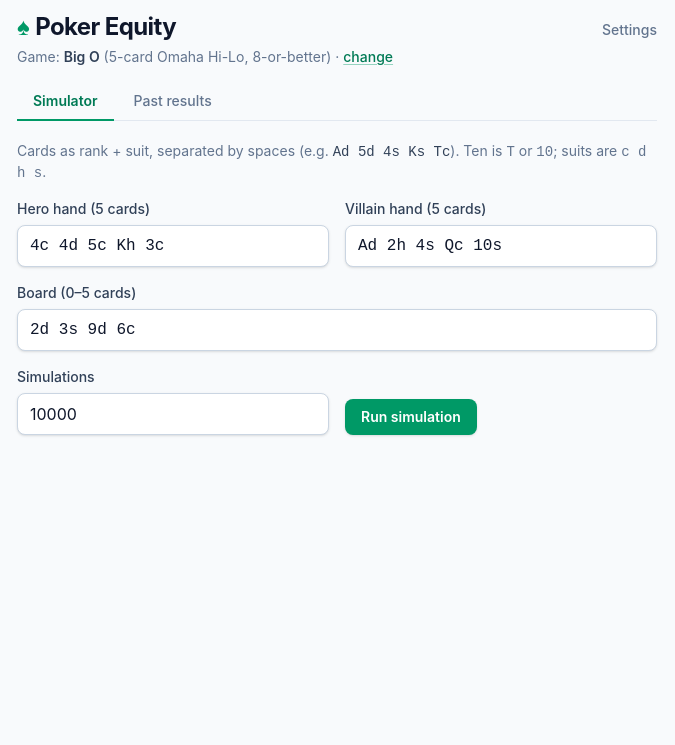
Scenario: a locked full board shows 100% hero equity
The image size is (675, 745).
Replace the text in the field labelled "Hero hand (5 cards)" with "As Ts 3h 4h 5h": (173, 246) x1=17 y1=225 x2=329 y2=267
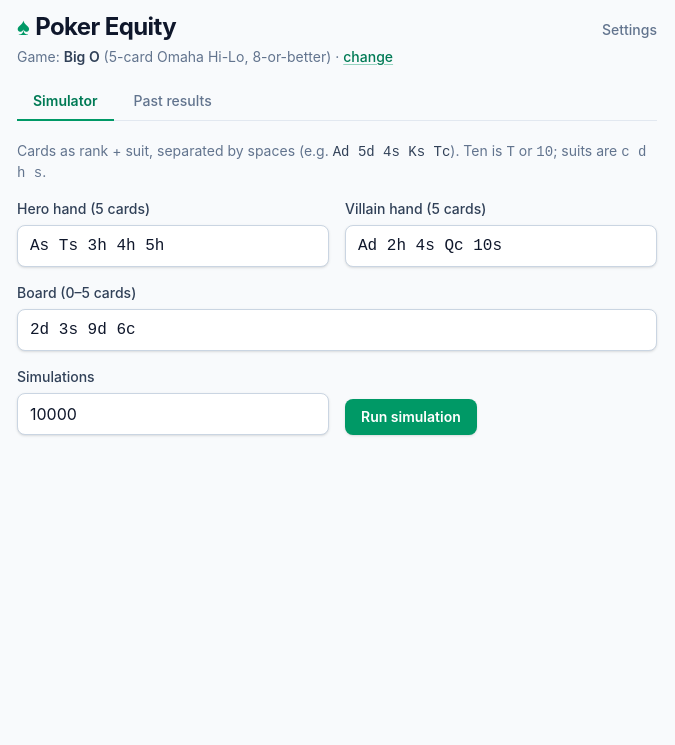
Replace the text in the field labelled "Villain hand (5 cards)" with "Ah Ad 9c 9d 8h": (501, 246) x1=345 y1=225 x2=657 y2=267
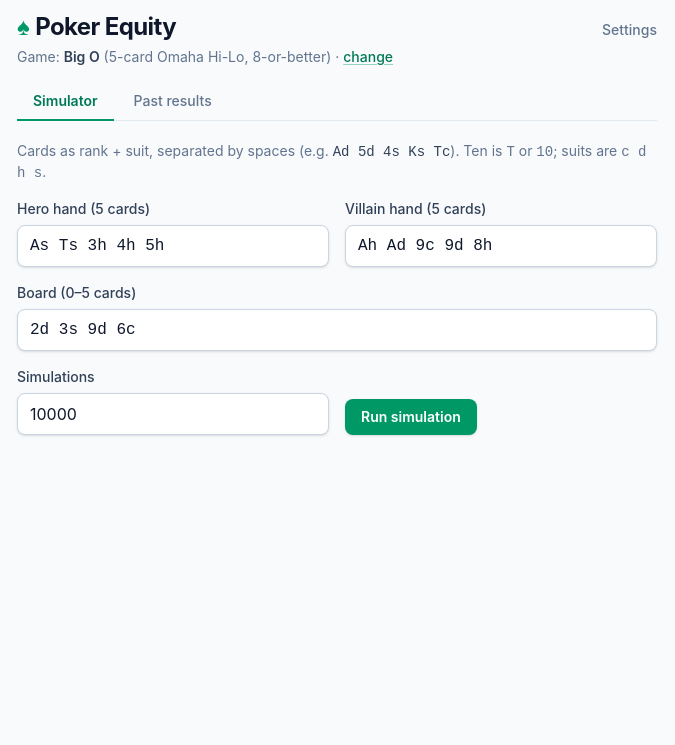
Replace the text in the field labelled "Board (0–5 cards)" with "Ks Qs Js 2d 7c": (337, 330) x1=17 y1=309 x2=657 y2=351
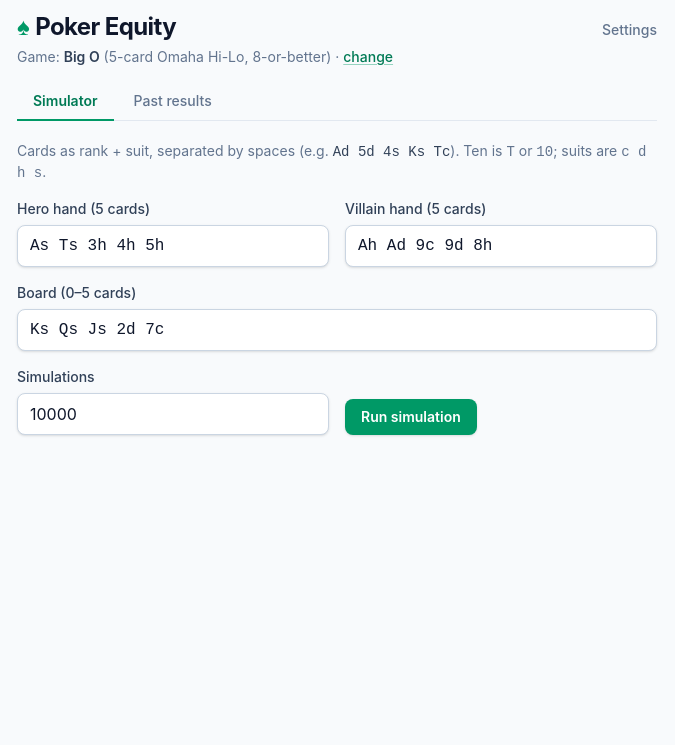
Replace the text in the number field labelled "Simulations" with "50": (173, 414) x1=17 y1=393 x2=329 y2=435
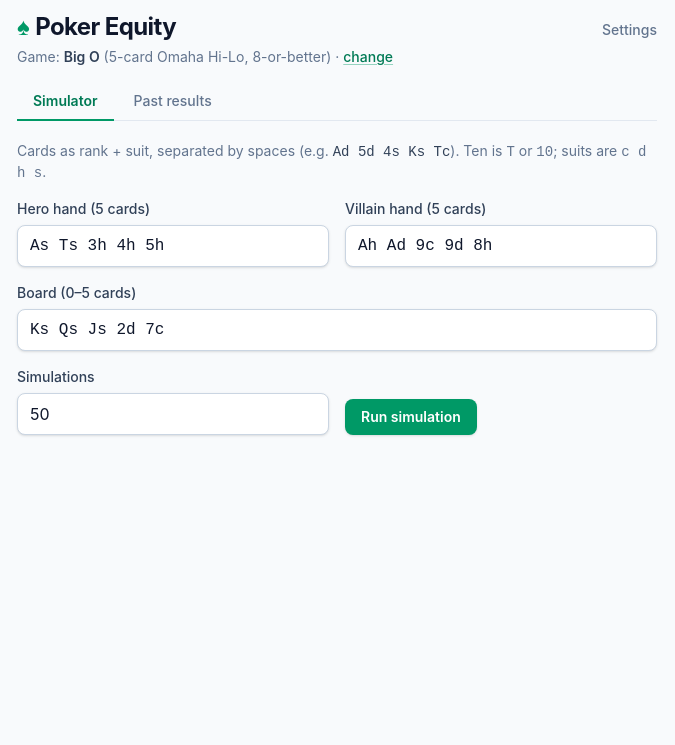
Click the button "Run simulation": click(411, 417) x1=345 y1=399 x2=477 y2=435
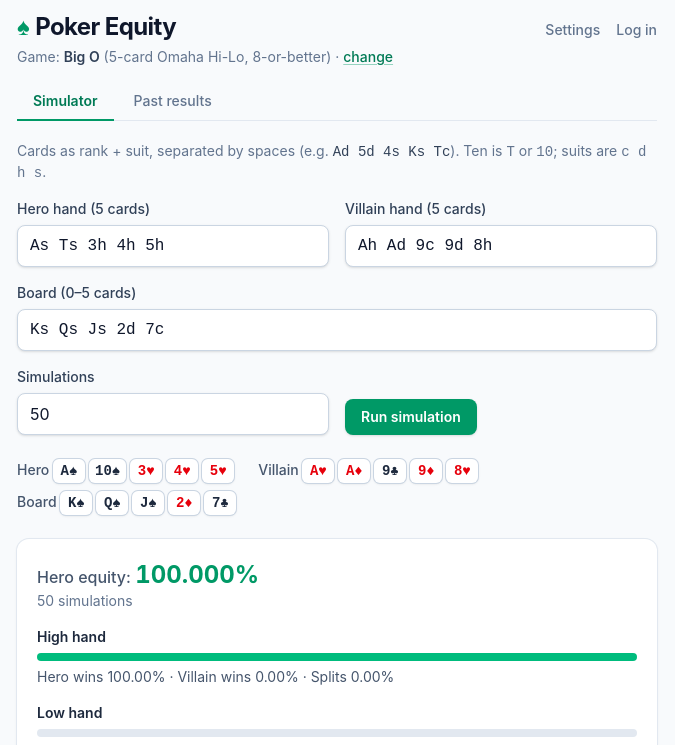
Expected: the text "100.000%" is shown, x1=135 y1=560 x2=259 y2=589
